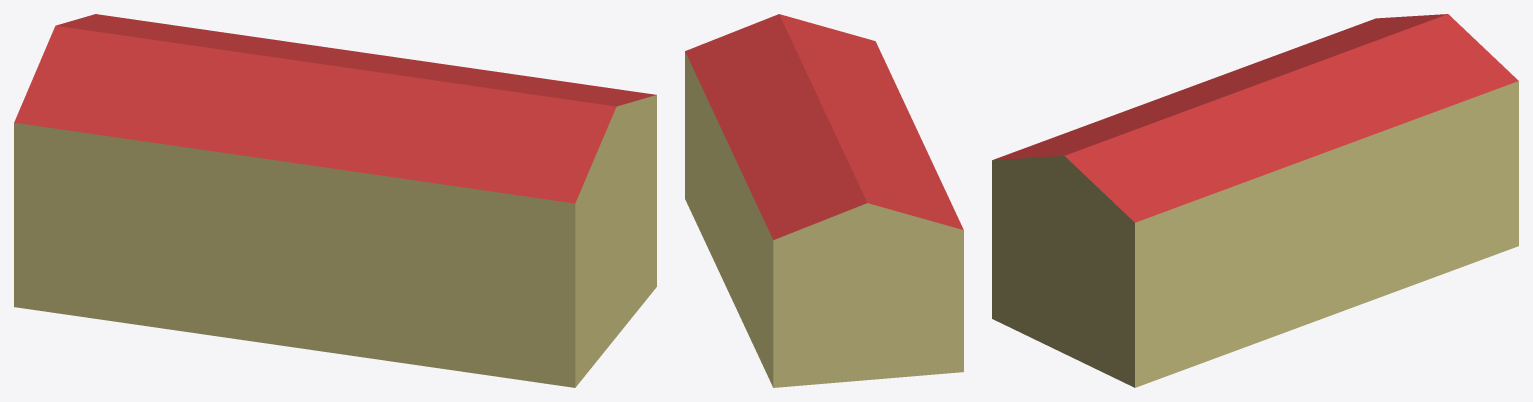
3 views of the same model, side by side, from view 1: azimuth 30°, elevation 25°; view 2: azimuth 150°, elevation 25°; view 3: azimuth 270°, elevation 25° (orthographic). The views are drawn at different scales.
Parts seen in each view (by area): view 1: group_4, group_3; view 2: group_4, group_3; view 3: group_4, group_3.
Part boxes in pixels (left/top/right/bottom): group_4: left=14, top=95, right=656, bottom=387; group_3: left=14, top=14, right=656, bottom=203; group_4: left=685, top=52, right=963, bottom=387; group_3: left=685, top=14, right=963, bottom=239; group_4: left=992, top=81, right=1518, bottom=387; group_3: left=992, top=14, right=1518, bottom=222.
Size of the model in its own units: 14.36 by 15.16 by 6.29.
